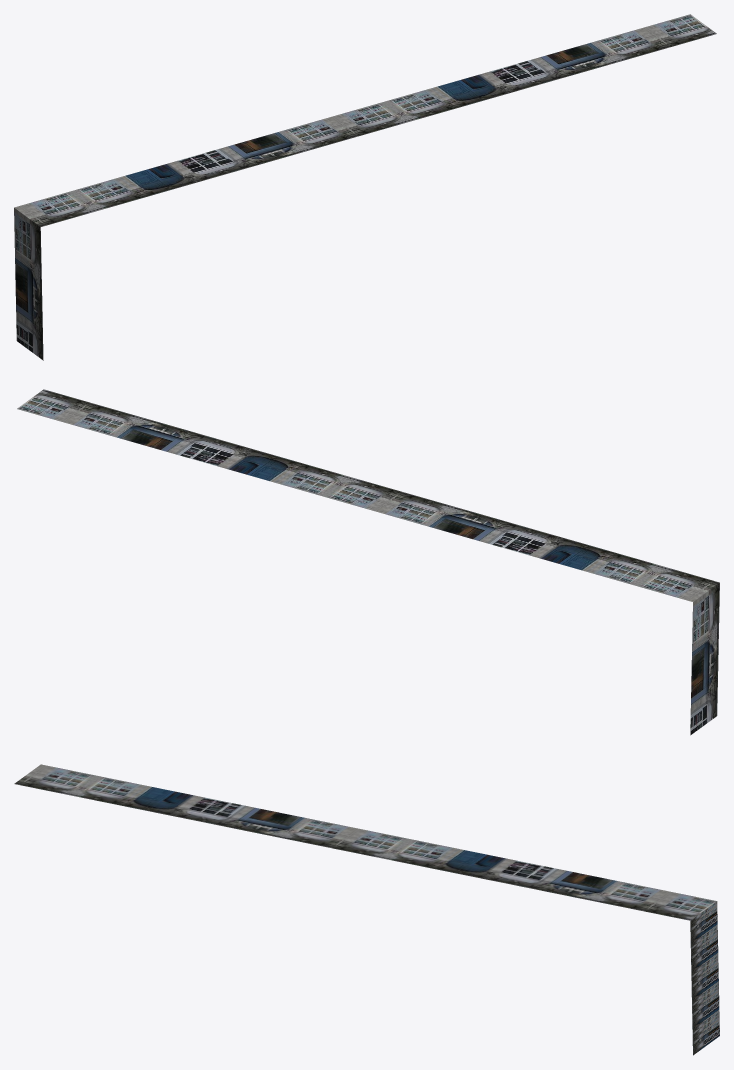
Rendered from tile_facade_714.glb.
The picture shows the model from 3 angles, top to bottom: view 1: azimuth 30°, elevation 25°; view 2: azimuth 150°, elevation 25°; view 3: azimuth 330°, elevation 25°; orthographic projection.
Size of the model in its own units: 58.39 by 13.34 by 4.
Materials: 1 (1 with a texture image).
